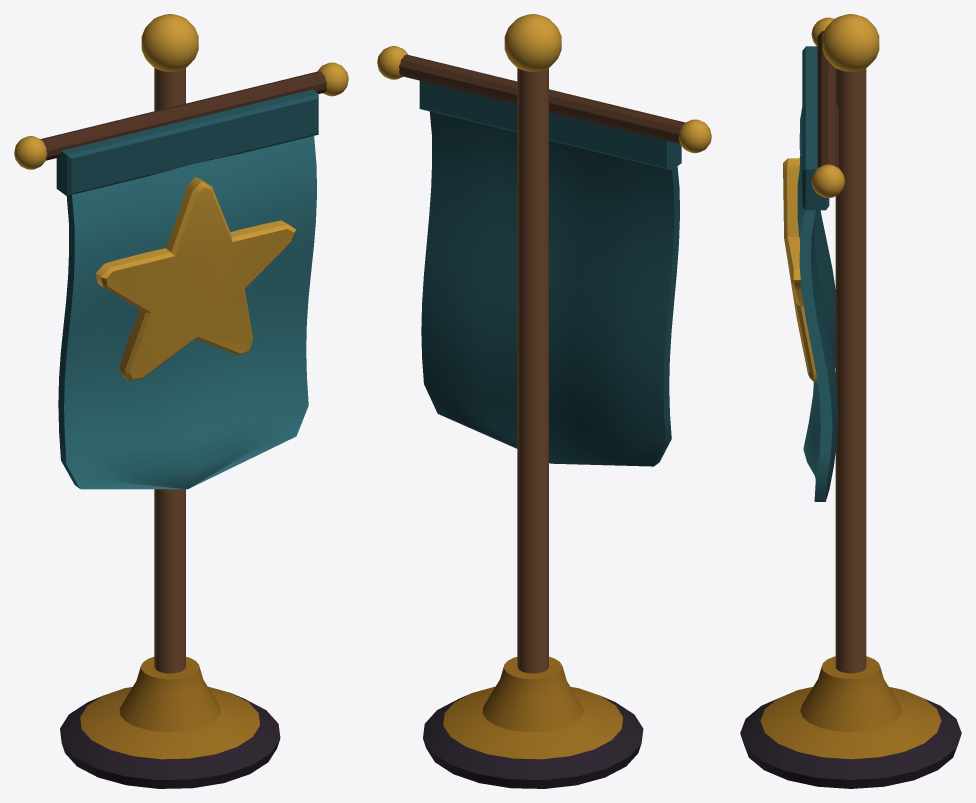
The model's file is Banner_05.glb.
3 views of the same model, side by side, from view 1: azimuth 30°, elevation 25°; view 2: azimuth 150°, elevation 25°; view 3: azimuth 270°, elevation 25° (orthographic).
Visible parts, largest first — view 1: Banner_05; view 2: Banner_05; view 3: Banner_05.
Boxes of the visible parts, x1=… form: Banner_05: x1=14, y1=14, x2=348, y2=788; Banner_05: x1=377, y1=14, x2=711, y2=788; Banner_05: x1=740, y1=14, x2=961, y2=788.
Bounding box in the file's own units: 3.37 × 7.09 × 1.96.
